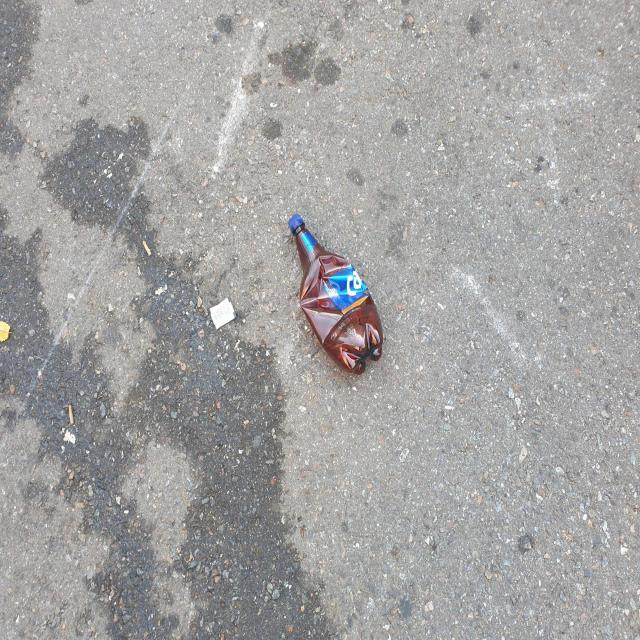plastic: (289, 214, 384, 374)
